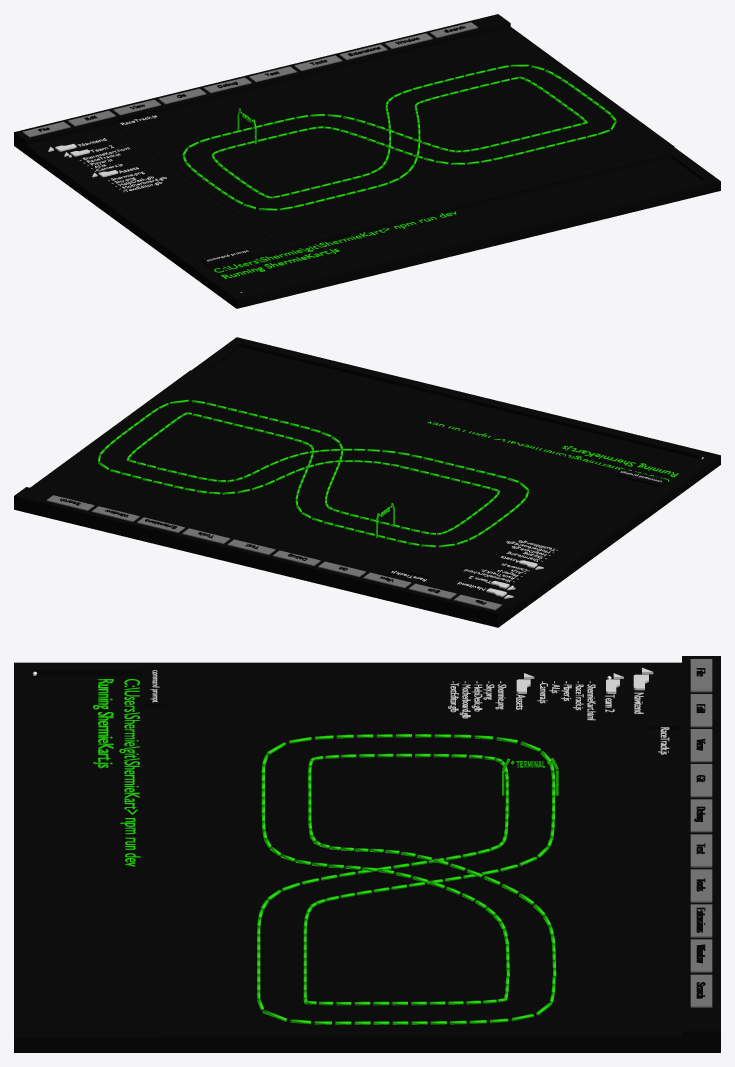
Rendered from TerminalB.glb.
The picture shows the model from 3 angles, top to bottom: view 1: azimuth 30°, elevation 25°; view 2: azimuth 150°, elevation 25°; view 3: azimuth 270°, elevation 25°; orthographic projection. The views are drawn at different scales.
Parts seen in each view (by area): view 1: TextEditor, Comment lines, buttons, terminal, Tabs; view 2: TextEditor, Comment lines, buttons, Tabs, Cube, files2; view 3: TextEditor, Comment lines, buttons, terminal, Tabs, terminal.002, files2, Cube, files1.
Boxes of the visible parts, x1,y1,x2,y2 form: TextEditor: (14,14,720,308); Comment lines: (182,64,616,210); buttons: (22,22,477,137); terminal: (214,228,389,272); Tabs: (38,26,465,131); TextEditor: (14,337,720,627); Comment lines: (98,399,529,547); buttons: (46,495,501,610); Tabs: (60,498,486,604); Cube: (615,469,667,487); files2: (506,540,557,561); TextEditor: (14,656,720,1052); Comment lines: (257,734,556,1024); buttons: (690,659,712,1007); terminal: (119,679,139,814); Tabs: (694,668,705,998); terminal.002: (93,679,113,768); files2: (448,681,506,718); Cube: (143,668,166,707); files1: (537,681,595,720).
Size of the model in its own units: 213 by 14.21 by 170.
9 materials, 4 textured.
